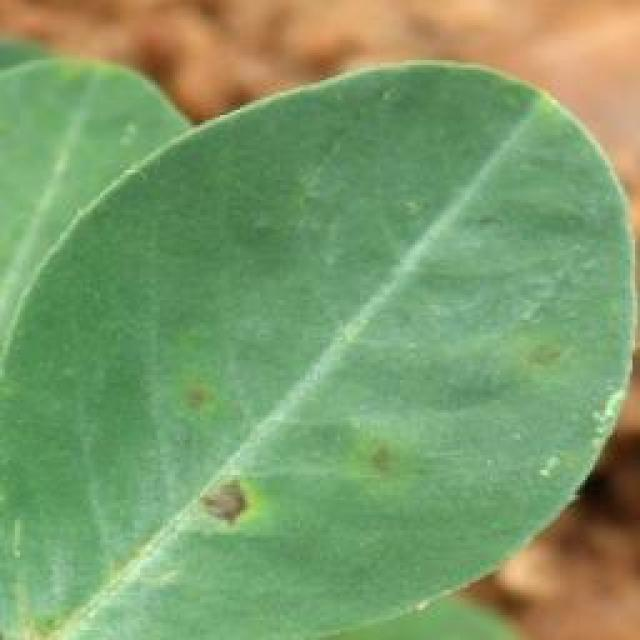Sigatoka: (319, 428, 423, 514), (512, 316, 592, 415), (188, 456, 273, 547), (171, 366, 249, 446)
